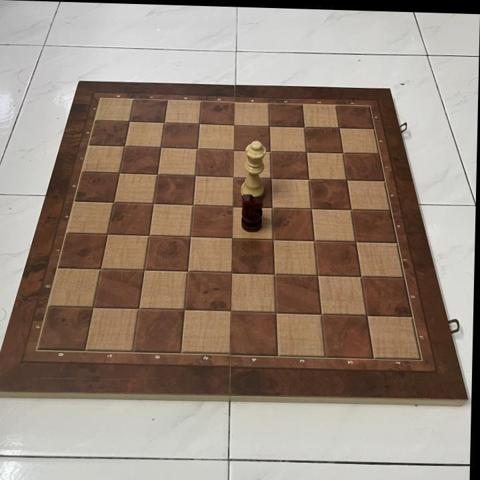xcorner: (121, 113, 137, 129), (156, 114, 172, 130), (191, 116, 207, 132), (227, 117, 243, 133), (262, 118, 278, 134), (297, 119, 313, 135), (332, 120, 348, 136), (116, 138, 132, 154), (189, 141, 205, 157), (226, 142, 242, 158), (263, 143, 279, 159), (299, 144, 315, 160), (335, 145, 351, 161), (111, 165, 127, 181), (149, 167, 165, 183), (187, 168, 203, 184), (301, 171, 317, 187), (339, 173, 355, 189), (145, 196, 161, 212), (185, 197, 201, 213), (225, 198, 241, 214), (265, 200, 281, 216), (304, 201, 320, 217), (100, 227, 116, 243), (141, 228, 157, 244), (183, 229, 199, 245), (224, 230, 240, 246), (266, 232, 282, 248), (307, 233, 323, 249), (348, 234, 364, 250), (93, 262, 109, 278), (137, 263, 153, 279), (180, 264, 196, 280), (224, 265, 240, 281), (267, 267, 283, 283), (310, 268, 326, 284), (353, 269, 369, 285), (86, 300, 102, 316), (132, 301, 148, 317), (223, 304, 239, 320), (268, 305, 284, 321), (153, 140, 169, 155), (226, 169, 241, 185), (264, 170, 279, 186), (106, 195, 121, 211), (344, 202, 359, 218), (177, 303, 193, 318), (314, 306, 329, 322), (359, 308, 375, 323)
